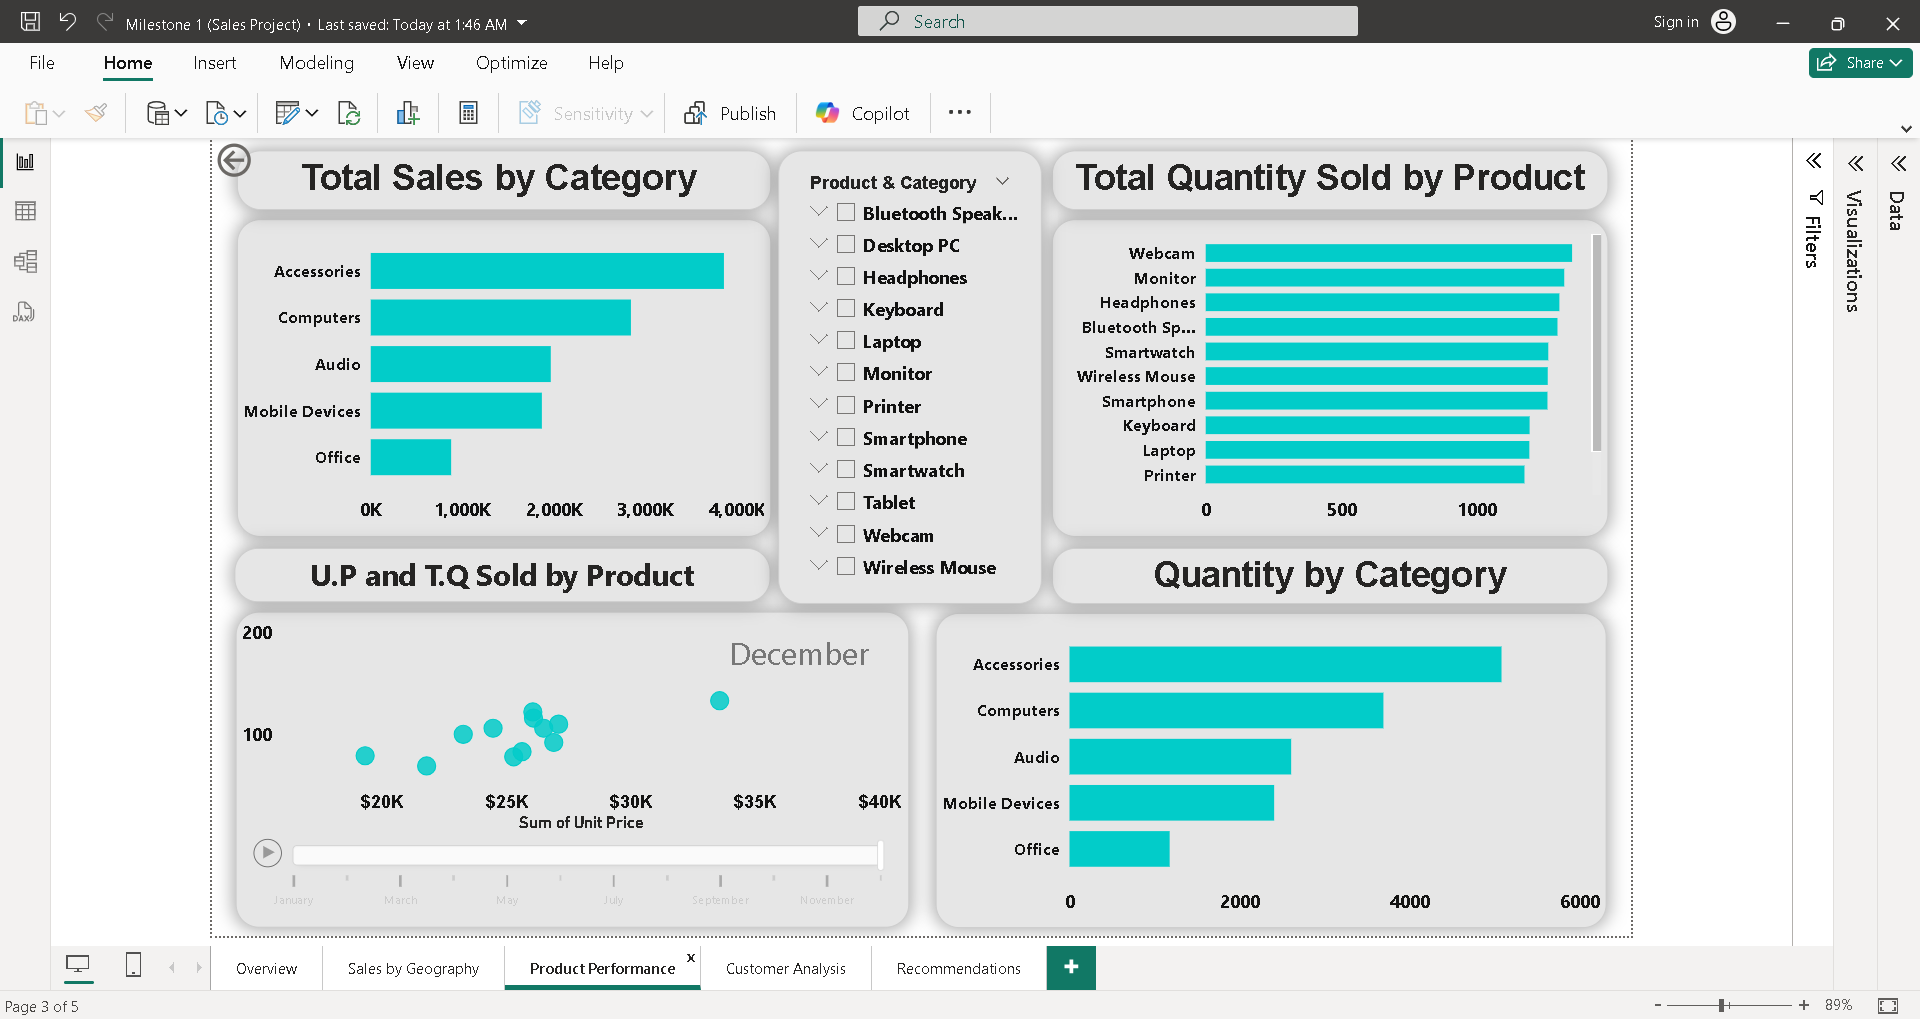

What the dashboard file says about the page in this screenshot:
{"tool":"powerbi","page":{"name":"Product Performance","canvas":[1280,720],"ordinal":2},"visuals":[{"type":"clusteredBarChart","fields":{"Category":["Dim_Product.Category"],"Y":["Fact_Sales.Total Sales"]},"box":[22,73.4,481.8,286.1],"z":0},{"type":"barChart","fields":{"Category":["Dim_Product.Product"],"Y":["Fact_Sales.Total Quantity Sold"]},"box":[756.9,73.4,501.4,286.1],"z":1000},{"type":"scatterChart","fields":{"X":["Sum(Fact_Sales.Unit Price)"],"Y":["Fact_Sales.Total Quantity Sold"],"Category":["Dim_Product.Product"],"Play":["Fact_Sales.Date.Variation.Date Hierarchy.Month"]},"box":[21.2,427.1,606.9,284.7],"z":2000},{"type":"textbox","box":[22,11,481.8,53.8],"z":3000},{"type":"textbox","box":[756.9,11,501.4,53.8],"z":4000},{"type":"textbox","box":[20.8,369.3,483,48.9],"z":5000},{"type":"barChart","fields":{"Category":["Dim_Product.Category"],"Y":["Sum(Fact_Sales.Quantity)"]},"box":[653,428,605,284],"z":6000},{"type":"textbox","box":[756.9,369.3,501.4,50.1],"z":7000},{"type":"actionButton","box":[0,0,100,40],"z":8000},{"type":"slicer","fields":{"Values":["Dim_Product.Product","Dim_Product.Category"]},"box":[511.1,11,237.2,408.4],"z":9000}]}

Visuals, with their boxes on the page's 1280x720 design canvas (x1, y1, x2, y2). These are canvas units, not pixel positions in the 1920x1019 screenshot, which may show the page scaled, cropped or inside an application window:
clusteredBarChart - Dim_Product.Category x Fact_Sales.Total Sales: (22, 73, 504, 360)
barChart - Dim_Product.Product x Fact_Sales.Total Quantity Sold: (757, 73, 1258, 360)
scatterChart - Sum(Fact_Sales.Unit Price) x Fact_Sales.Total Quantity Sold: (21, 427, 628, 712)
textbox: (22, 11, 504, 65)
textbox: (757, 11, 1258, 65)
textbox: (21, 369, 504, 418)
barChart - Dim_Product.Category x Sum(Fact_Sales.Quantity): (653, 428, 1258, 712)
textbox: (757, 369, 1258, 419)
actionButton: (0, 0, 100, 40)
slicer - Dim_Product.Product x Dim_Product.Category: (511, 11, 748, 419)
